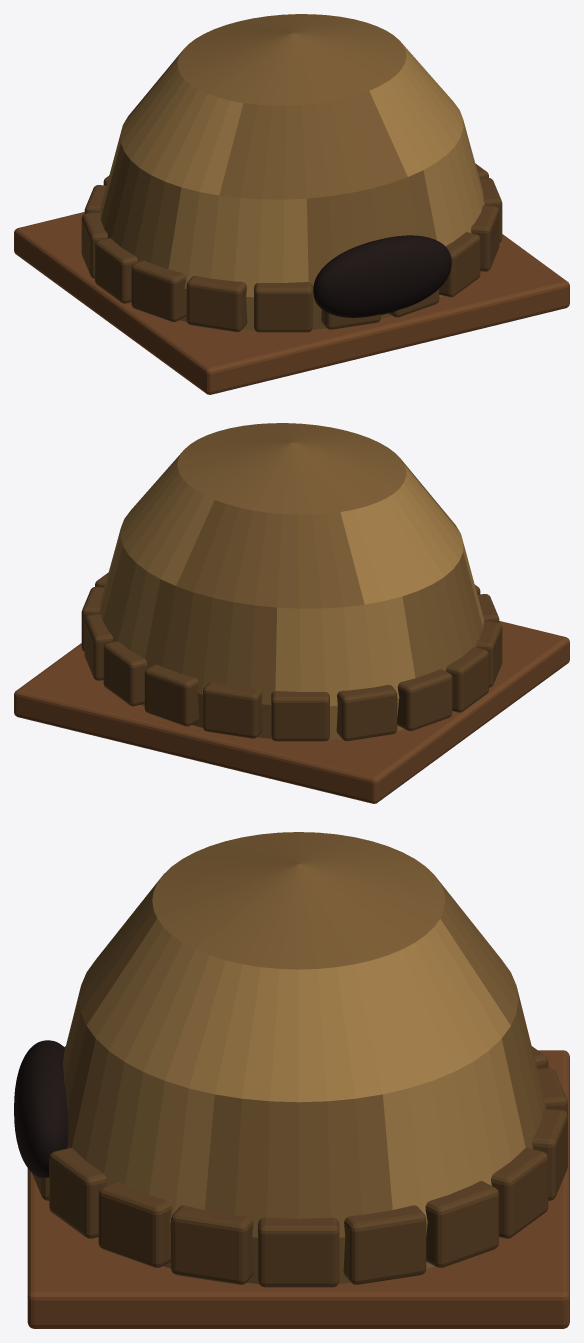
The model's file is caparazon.glb.
3 views of the same model, one above another, from view 1: azimuth 30°, elevation 25°; view 2: azimuth 150°, elevation 25°; view 3: azimuth 270°, elevation 25° (orthographic). The views are drawn at different scales.
Visible parts, largest first — view 1: concha, tarima, abertura, marginal11, marginal12, marginal10, marginal9, marginal15, marginal16, marginal8, marginal13, marginal17; view 2: concha, tarima, marginal7, marginal6, marginal5, marginal8, marginal4, marginal3, marginal9, marginal2, marginal10, marginal1; view 3: concha, tarima, abertura, marginal0, marginal1, marginal17, marginal16, marginal2, marginal3, marginal15, marginal4, marginal5.
Part boxes in pixels (x1,y1,x2,y2): concha: [99, 14, 484, 330]; tarima: [14, 212, 569, 394]; abertura: [313, 235, 451, 317]; marginal11: [186, 276, 247, 331]; marginal12: [254, 282, 312, 332]; marginal10: [131, 260, 186, 321]; marginal9: [95, 238, 137, 303]; marginal15: [439, 232, 480, 297]; marginal16: [471, 205, 499, 271]; marginal8: [81, 212, 107, 278]; marginal13: [321, 309, 380, 329]; marginal17: [479, 178, 502, 242]; concha: [99, 423, 484, 739]; tarima: [14, 621, 569, 803]; marginal7: [336, 685, 397, 740]; marginal6: [271, 691, 329, 741]; marginal5: [203, 682, 262, 738]; marginal8: [397, 669, 452, 730]; marginal4: [144, 664, 199, 726]; marginal3: [103, 641, 146, 706]; marginal9: [446, 647, 488, 712]; marginal2: [84, 614, 112, 680]; marginal10: [476, 621, 502, 687]; marginal1: [81, 587, 104, 651]; concha: [63, 832, 545, 1283]; tarima: [27, 1050, 569, 1328]; abertura: [14, 1040, 68, 1177]; marginal0: [258, 1217, 339, 1287]; marginal1: [343, 1205, 426, 1284]; marginal17: [171, 1205, 253, 1284]; marginal16: [98, 1181, 171, 1267]; marginal2: [425, 1181, 498, 1267]; marginal3: [491, 1147, 548, 1238]; marginal15: [49, 1147, 106, 1238]; marginal4: [532, 1108, 567, 1200]; marginal5: [537, 1067, 567, 1115].
Bounding box in the file's own units: 0.9396 × 0.6048 × 0.8856.
